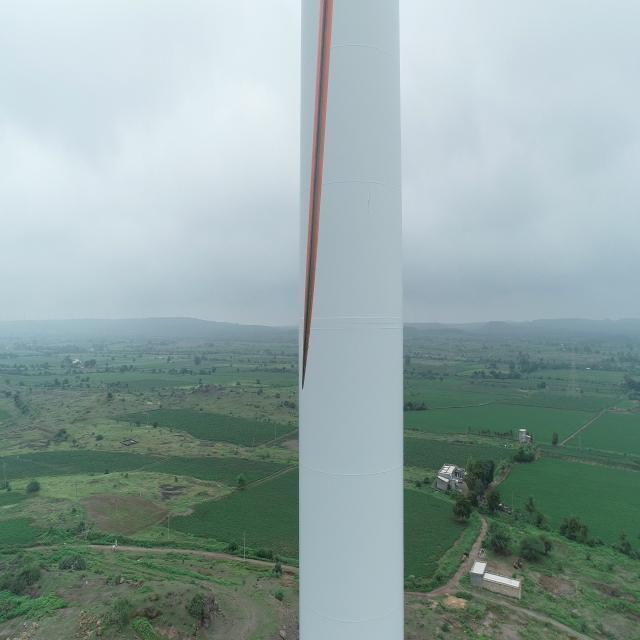Erosion: (301, 1, 336, 397)
